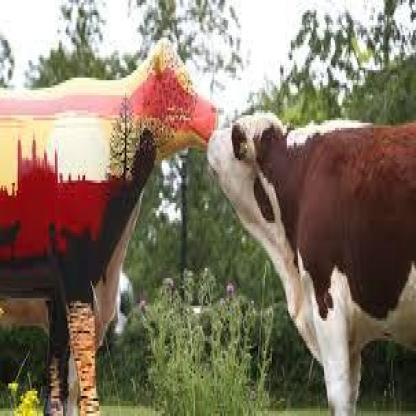cow: (206, 108, 416, 416)
